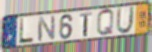6: (58, 13, 75, 40)
L: (18, 17, 35, 45)
N: (36, 15, 56, 43)
Q: (96, 8, 115, 38)
T: (79, 11, 93, 38)
U: (115, 6, 135, 35)
